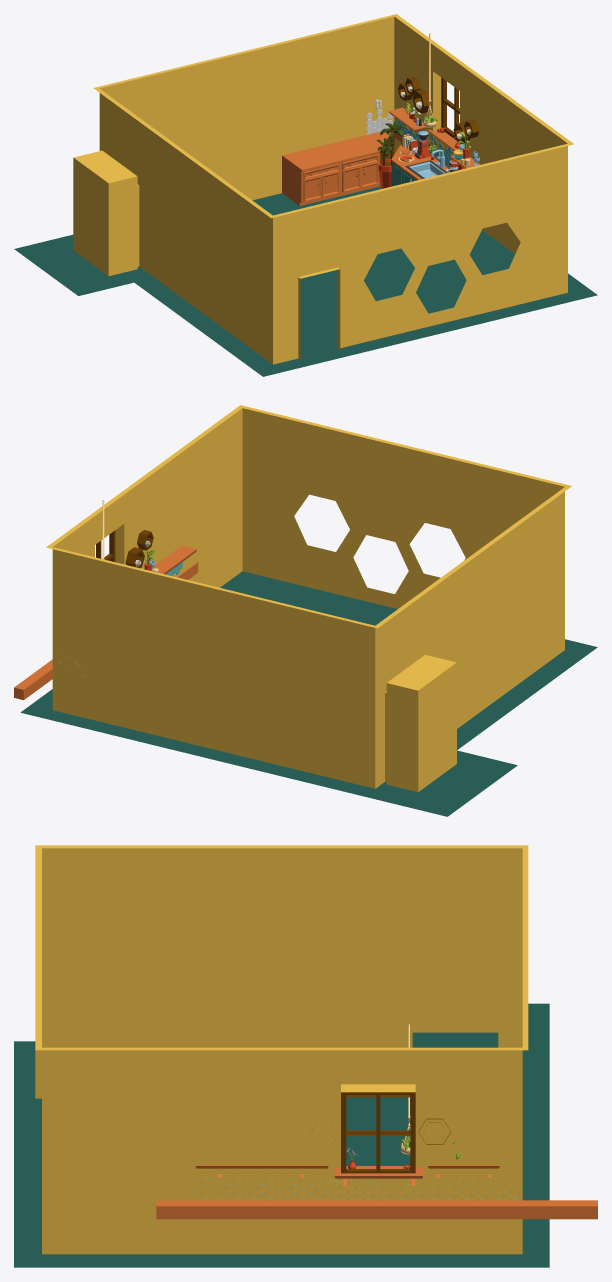
File: Kitchen_v002-transformed.glb
3 views of the same model, one above another, from view 1: azimuth 30°, elevation 25°; view 2: azimuth 150°, elevation 25°; view 3: azimuth 270°, elevation 25° (orthographic). The views are drawn at different scales.
Parts seen in each view (by area): view 1: room_BASE_no_backside_comb_window, ground, polySurface761, polySurface906, polySurface955.001, room_BASE_no_backside_comb_window.001, polySurface378; view 2: room_BASE_no_backside_comb_window, ground, Cube, polySurface378; view 3: room_BASE_no_backside_comb_window, ground, Cube, room_BASE_no_backside_comb_window.001, polySurface378, polySurface378.001.
Part boxes in pixels (<box>): room_BASE_no_backside_comb_window: <box>73,14,573,364</box>; ground: <box>14,186,597,376</box>; polySurface761: <box>282,131,391,205</box>; polySurface906: <box>391,144,448,186</box>; polySurface955.001: <box>377,121,407,188</box>; room_BASE_no_backside_comb_window.001: <box>441,77,459,139</box>; polySurface378: <box>388,107,480,168</box>; room_BASE_no_backside_comb_window: <box>46,405,571,791</box>; ground: <box>20,571,597,816</box>; Cube: <box>14,562,198,700</box>; polySurface378: <box>151,545,196,574</box>; room_BASE_no_backside_comb_window: <box>35,845,528,1254</box>; ground: <box>14,1003,549,1267</box>; Cube: <box>156,1200,597,1219</box>; room_BASE_no_backside_comb_window.001: <box>341,1092,415,1173</box>; polySurface378: <box>195,1165,499,1177</box>; polySurface378.001: <box>334,1166,423,1185</box>.
Bounding box in the file's own units: 10.29 × 4.12 × 9.62.
